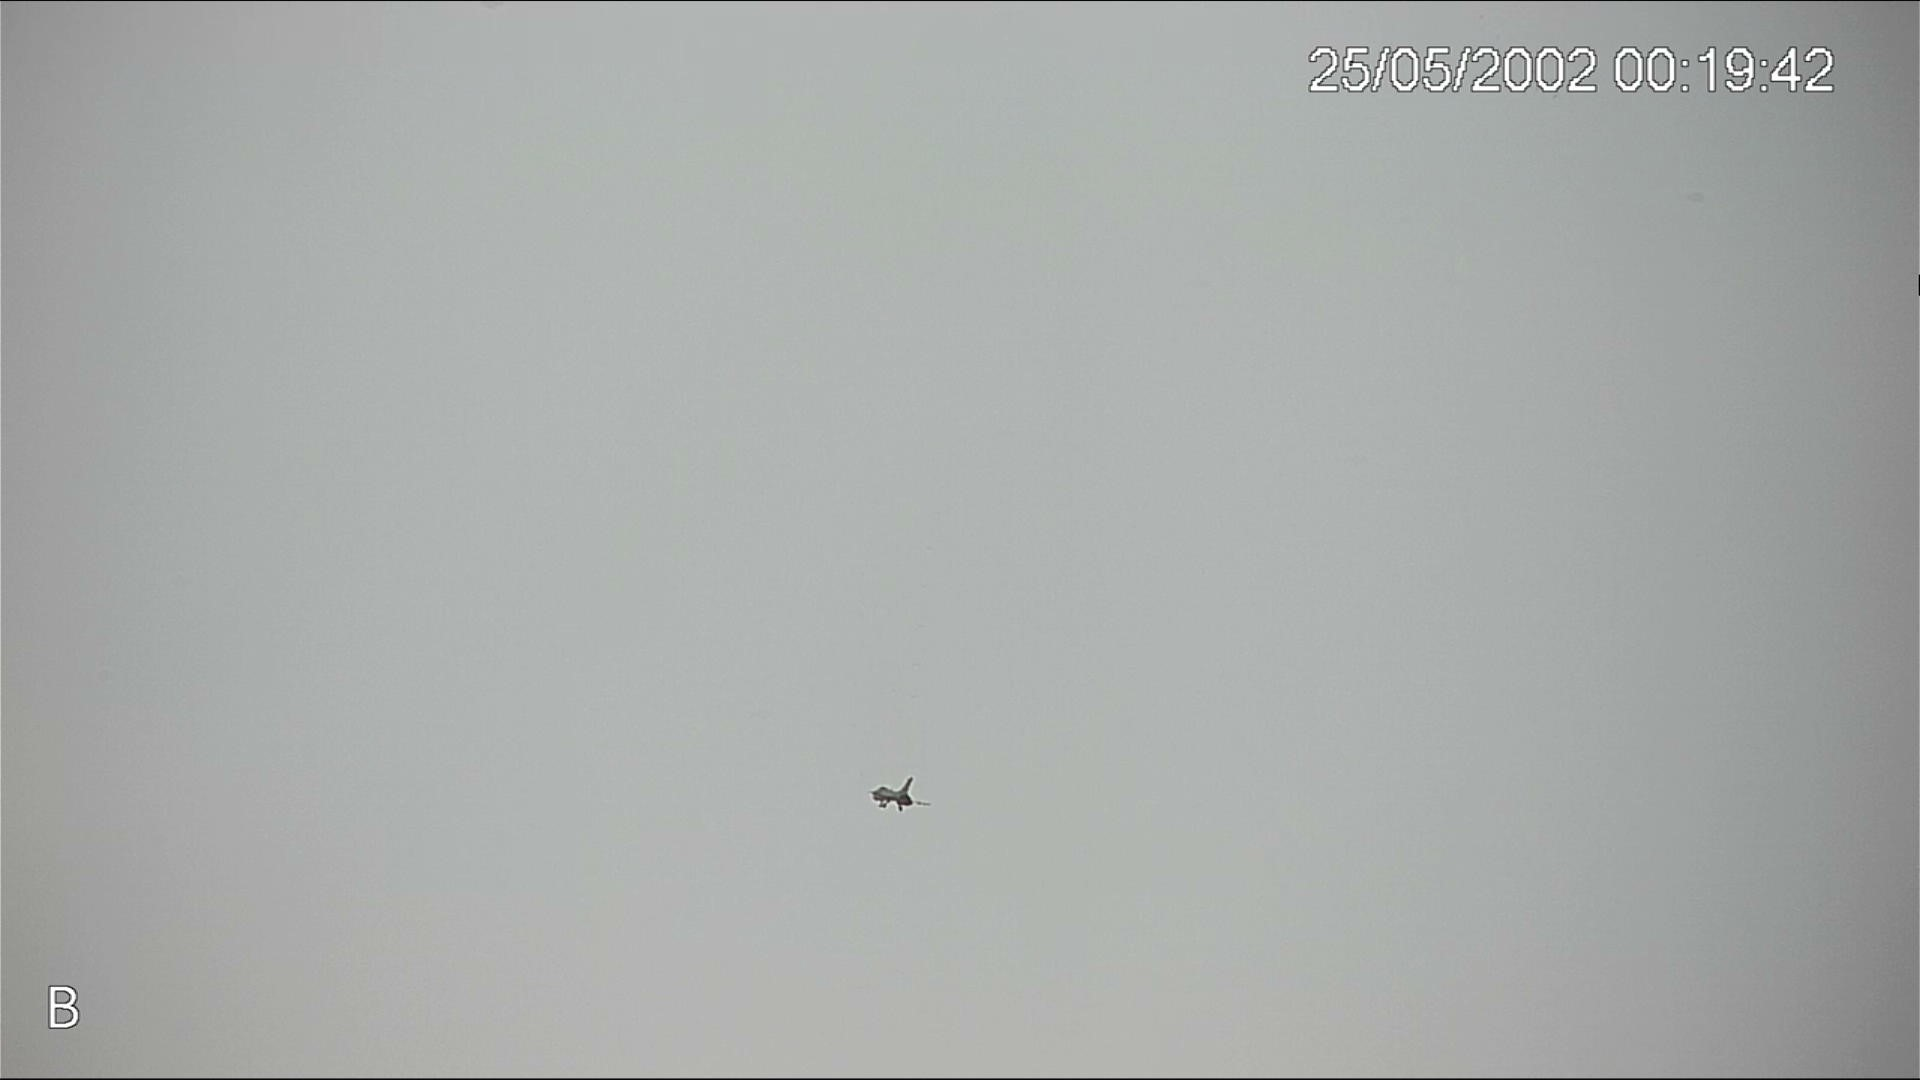SU_30: (864, 774, 940, 815)
